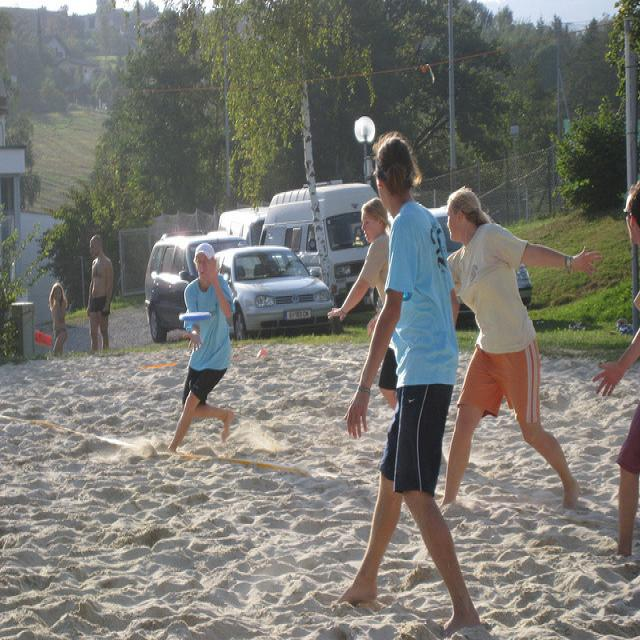Vehicle: (257, 182, 380, 310), (214, 246, 341, 340), (143, 234, 246, 344), (218, 205, 270, 246)
